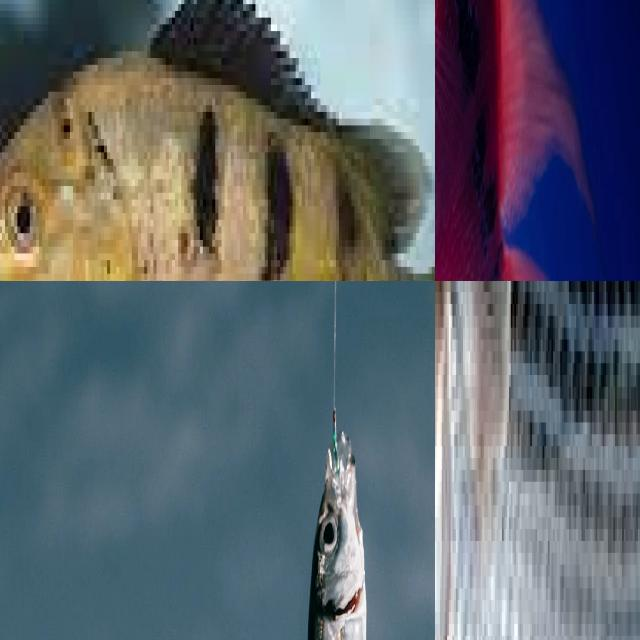fish: (0, 0, 435, 281), (435, 281, 640, 640), (435, 0, 499, 281), (0, 587, 109, 640)
